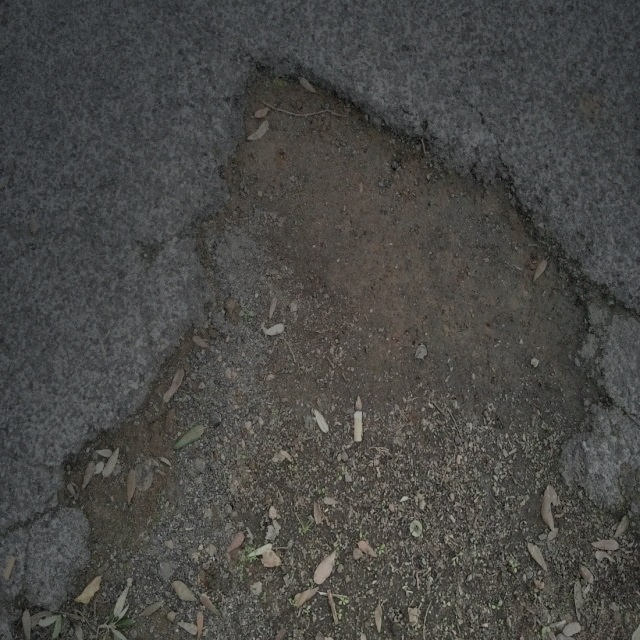pothole: (82, 48, 588, 545)
